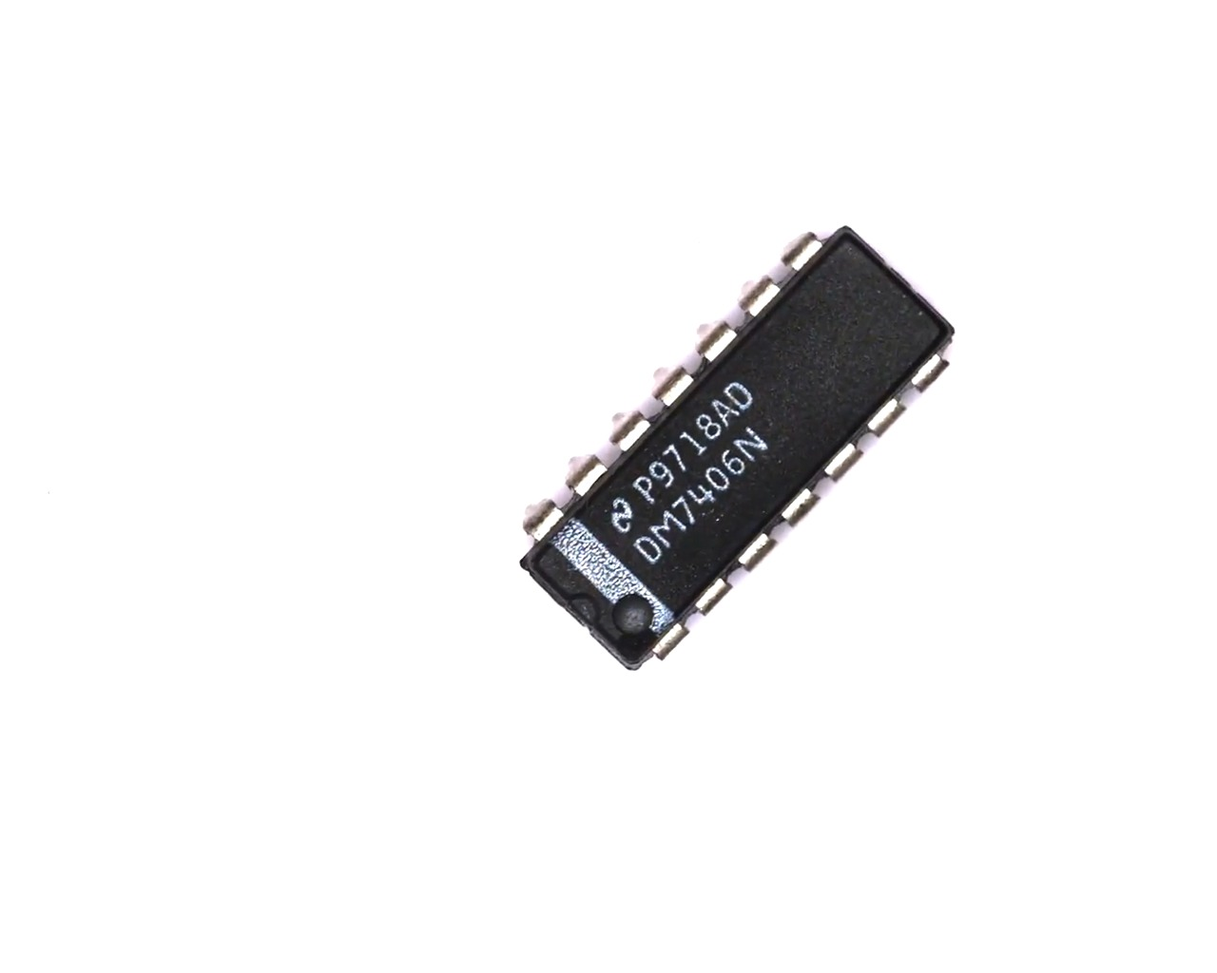IC: (474, 192, 988, 701)
notch: (560, 586, 602, 628)
